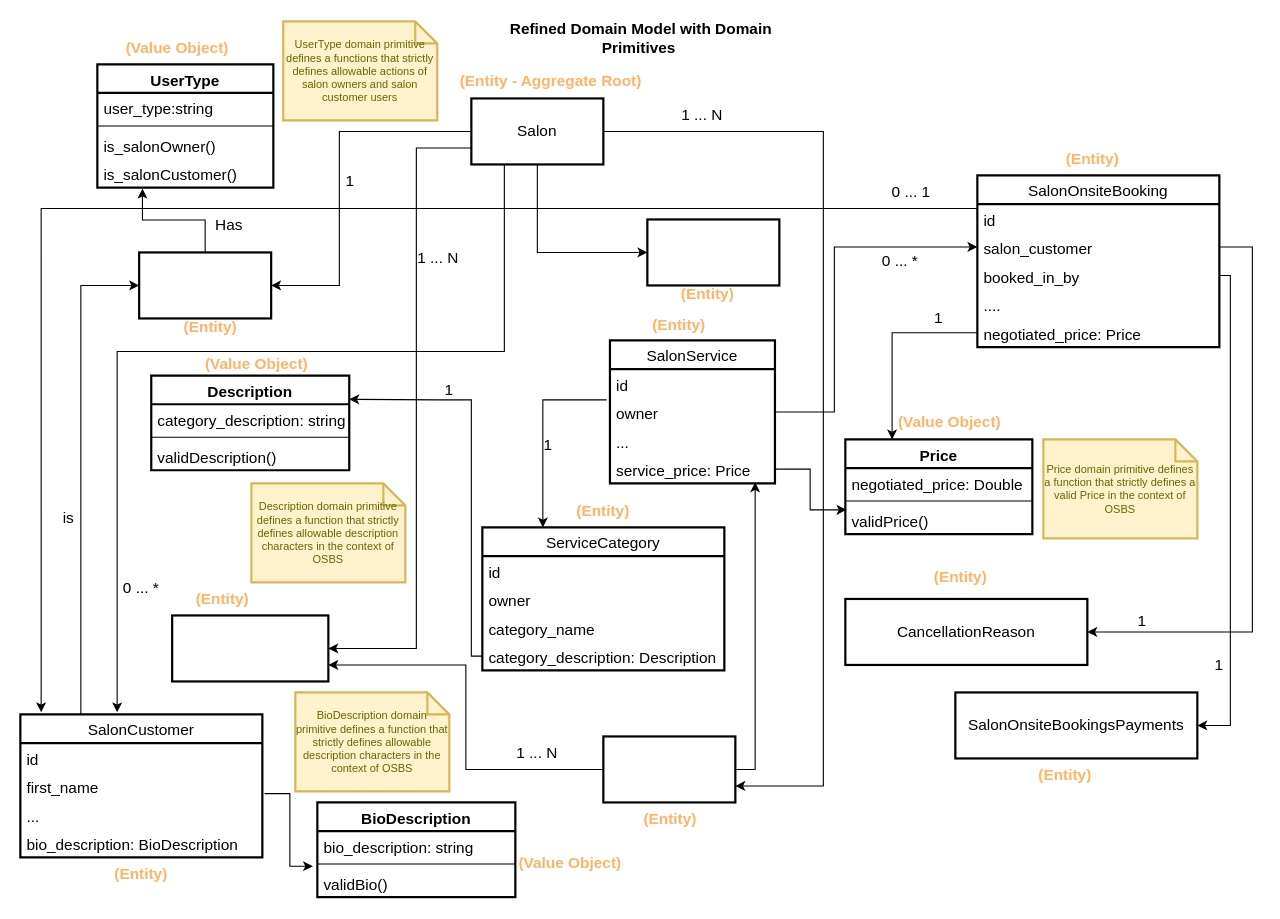
Some shapes in this 1280 by 919 pixel diagram are drawn without their labels. The shapes that lost their labels are listed below. From the top down, each one's centre as x and y in pixels, then its label:
At point 713,252: "Address".
At point 205,285: "User".
At point 249,648: "SalonOperationDays".
At point 669,769: "SalonStylist".
